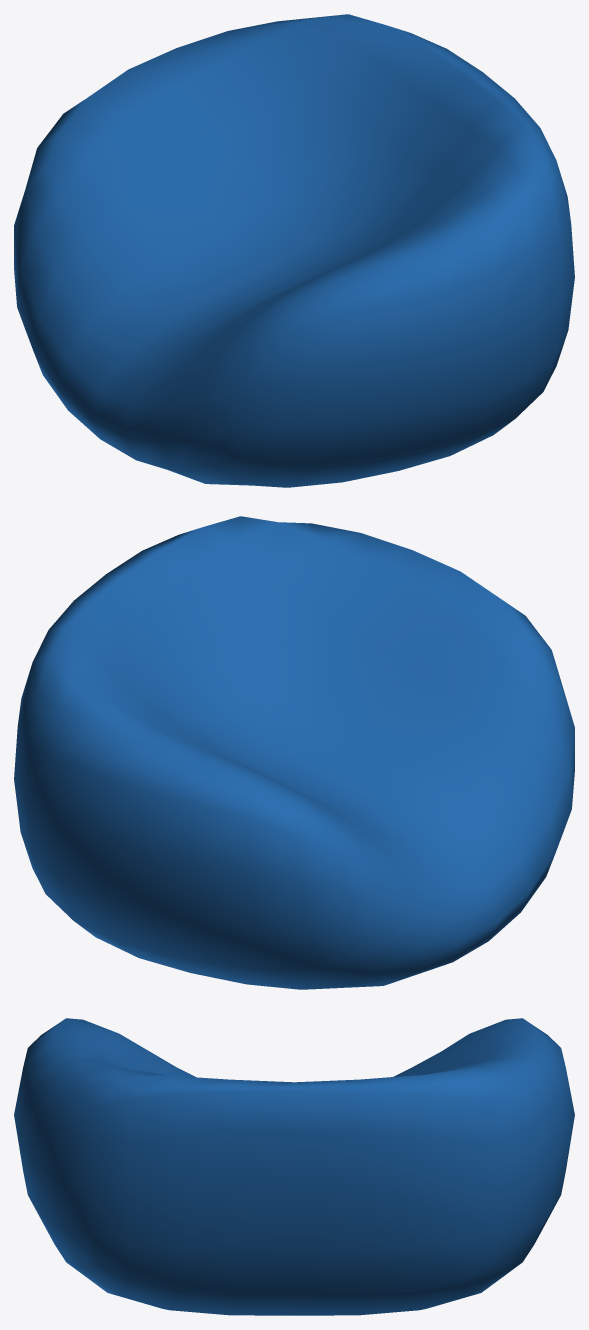
Rendered from beanbag_01_blue.fbx.
The picture shows the model from 3 angles, top to bottom: view 1: azimuth 30°, elevation 25°; view 2: azimuth 150°, elevation 25°; view 3: azimuth 270°, elevation 25°; orthographic projection. The views are drawn at different scales.
Visible parts, largest first — view 1: beanbag_01_blue; view 2: beanbag_01_blue; view 3: beanbag_01_blue.
Part boxes in pixels (<box>): beanbag_01_blue: <box>14,14,574,487</box>; beanbag_01_blue: <box>14,516,574,989</box>; beanbag_01_blue: <box>14,1018,574,1315</box>.
Bounding box in the file's own units: 84.93 × 60.58 × 112.
1 material, 1 textured.
